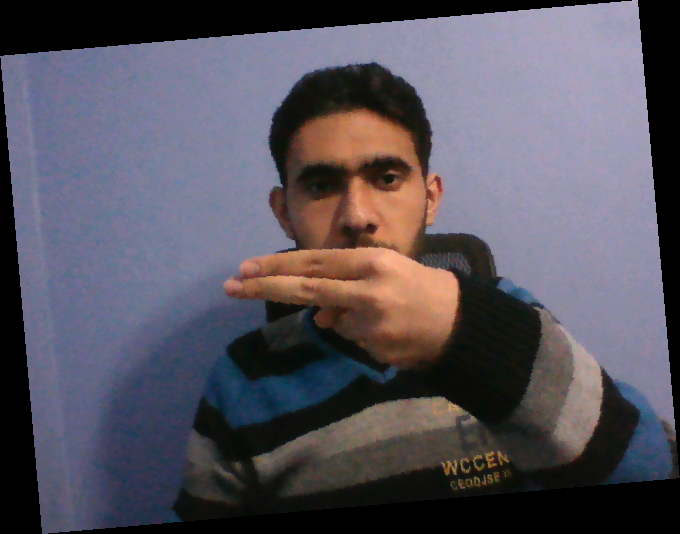H: (216, 242, 471, 368)
